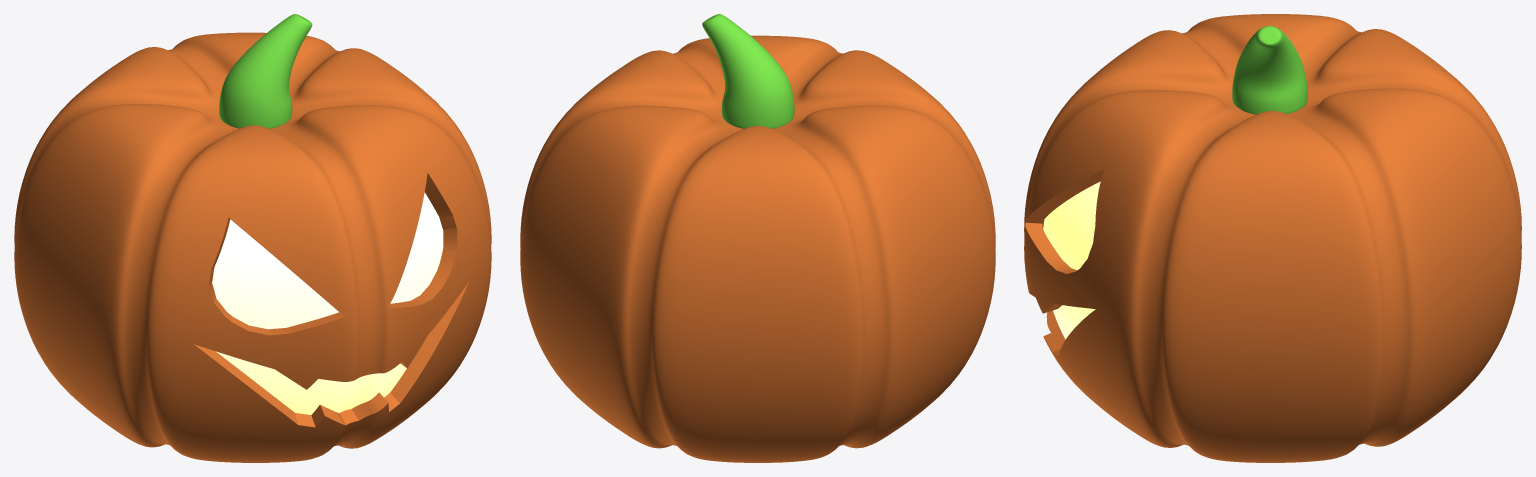
File: Player 1.fbx
3 views of the same model, side by side, from view 1: azimuth 30°, elevation 25°; view 2: azimuth 150°, elevation 25°; view 3: azimuth 270°, elevation 25° (orthographic). The views are drawn at different scales.
Visible parts, largest first — view 1: Sphere; view 2: Sphere; view 3: Sphere.
Boxes of the visible parts, left/top/right/bottom form: Sphere: left=14, top=14, right=491, bottom=462; Sphere: left=520, top=14, right=995, bottom=462; Sphere: left=1024, top=14, right=1521, bottom=462.
Bounding box in the file's own units: 168 × 158 × 180.
